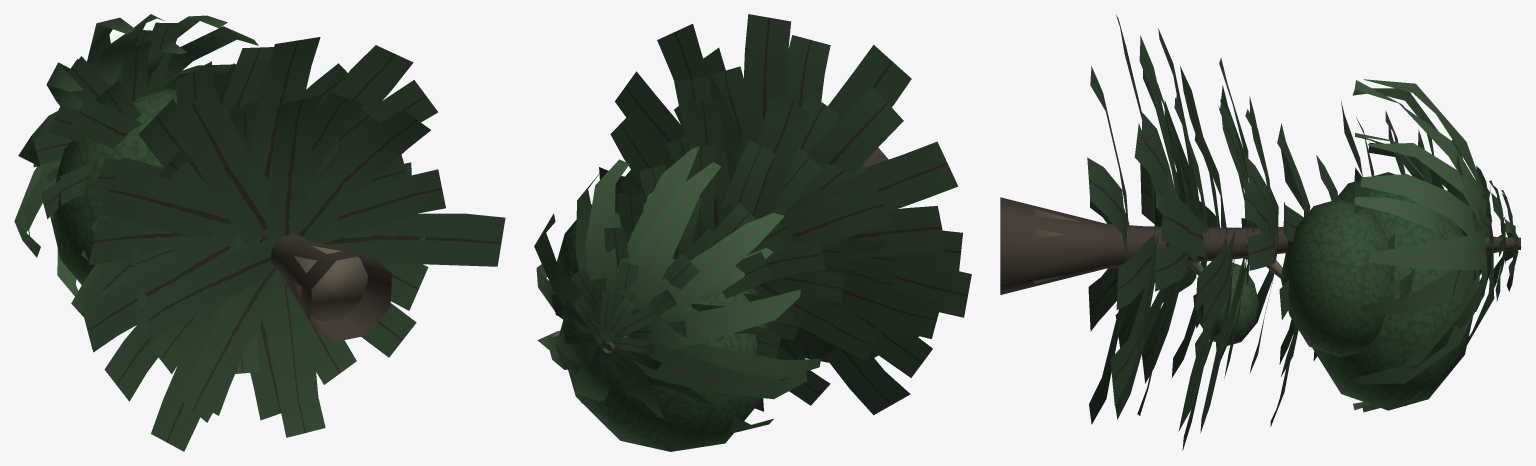
Rendered from Trees.fbx.
The picture shows the model from 3 angles, left to right: view 1: azimuth 30°, elevation 25°; view 2: azimuth 150°, elevation 25°; view 3: azimuth 270°, elevation 25°; orthographic projection. The views are drawn at different scales.
Visible parts, largest first — view 1: mesh_tree_03, mesh_tree_02, mesh_tree_01; view 2: mesh_tree_03, mesh_tree_02, mesh_tree_01; view 3: mesh_tree_03, mesh_tree_01, mesh_tree_02.
Boxes of the visible parts, left/top/right/bottom form: mesh_tree_03: left=33, top=22, right=505, bottom=451; mesh_tree_02: left=14, top=14, right=391, bottom=342; mesh_tree_01: left=50, top=88, right=367, bottom=321; mesh_tree_03: left=551, top=14, right=971, bottom=415; mesh_tree_02: left=534, top=146, right=888, bottom=432; mesh_tree_01: left=557, top=203, right=768, bottom=451; mesh_tree_03: left=1087, top=15, right=1521, bottom=450; mesh_tree_01: left=1034, top=172, right=1475, bottom=410; mesh_tree_02: left=1000, top=79, right=1494, bottom=412.
Bounding box in the file's own units: 1989 × 1851 × 2196.
